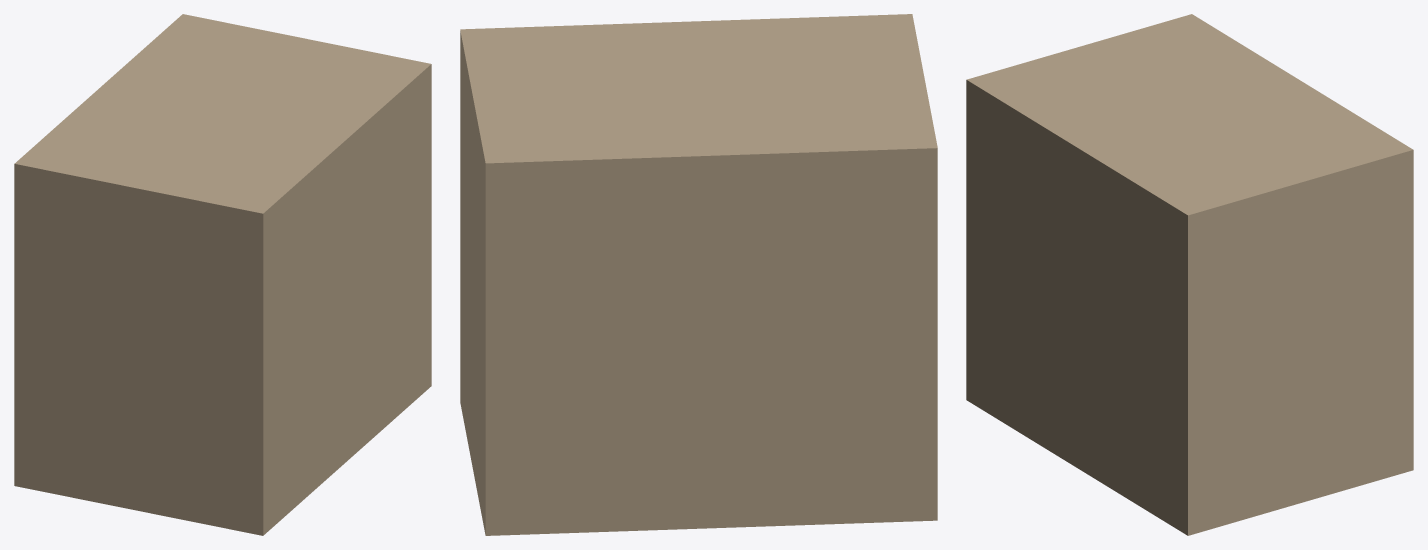
The model's file is bld_106339107.dae.
The picture shows the model from 3 angles, left to right: view 1: azimuth 30°, elevation 25°; view 2: azimuth 150°, elevation 25°; view 3: azimuth 270°, elevation 25°; orthographic projection. The views are drawn at different scales.
Visible parts, largest first — view 1: bld_106339107; view 2: bld_106339107; view 3: bld_106339107.
Part boxes in pixels (x1=…): bld_106339107: x1=14, y1=14, x2=431, y2=535; bld_106339107: x1=460, y1=14, x2=937, y2=535; bld_106339107: x1=966, y1=14, x2=1413, y2=535.
Size of the model in its own units: 10.79 by 10.11 by 8.
